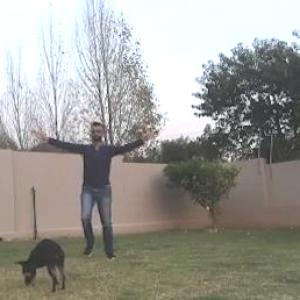takeoff: (25, 119, 154, 265)
